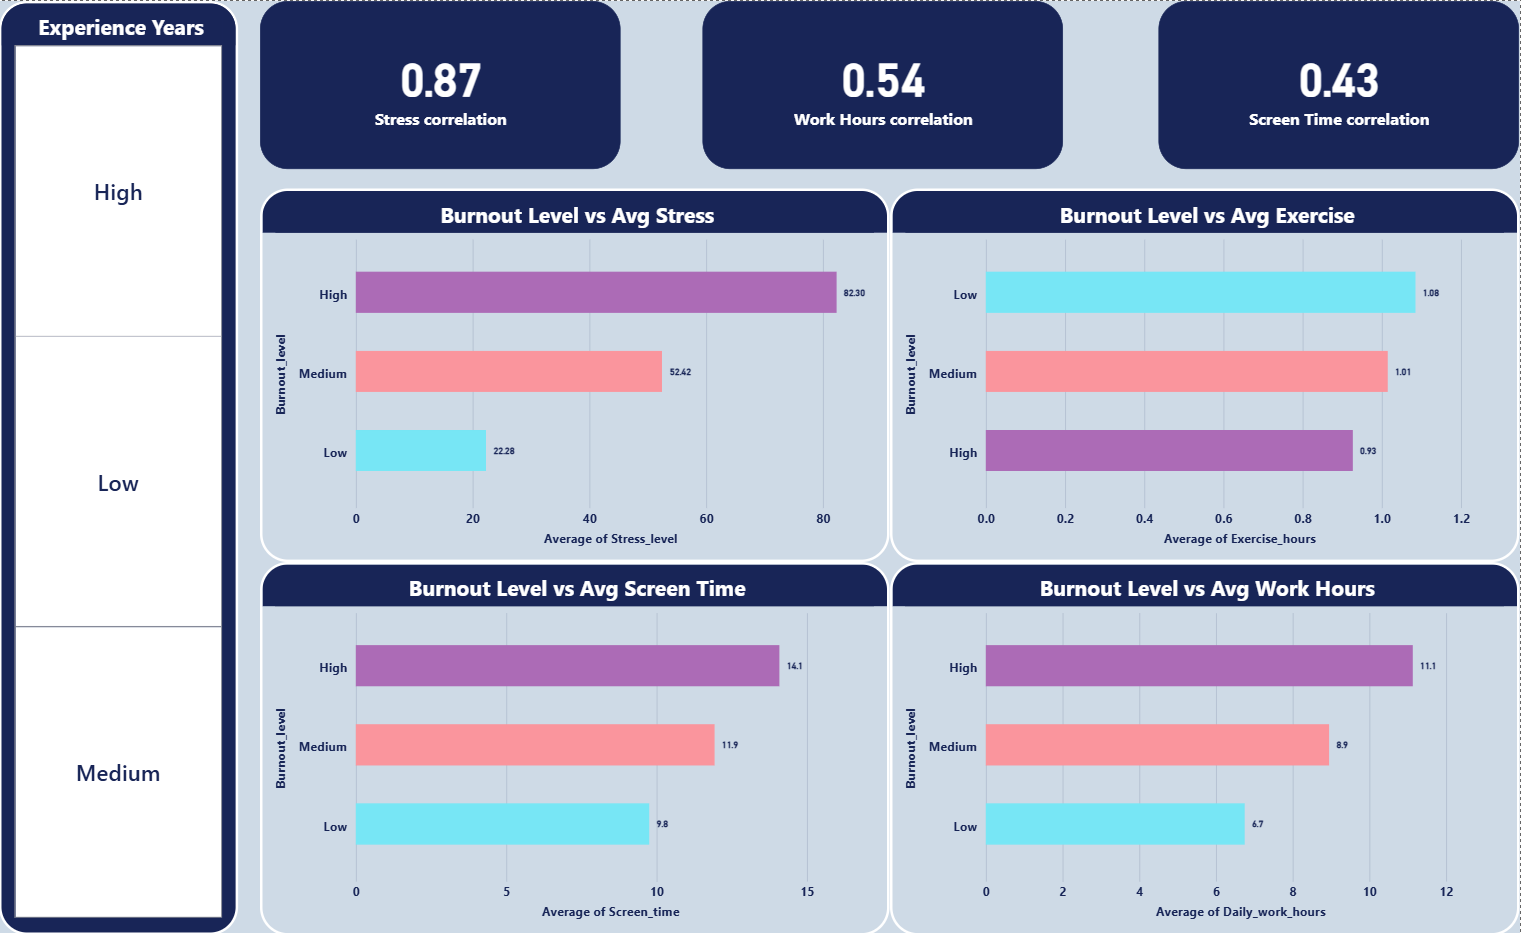

This screenshot's page, from the dashboard's own definition file:
{"tool":"powerbi","page":{"name":"Burnout Deep Dive","canvas":[1628,1000],"ordinal":4},"visuals":[{"type":"advancedSlicerVisual","title":"Experience Years","fields":{"Values":["Final.Burnout_level"]},"box":[0,0,256,1000],"z":0},{"type":"card","fields":{"Values":["Final.Stress correlation"]},"box":[280,0,386,180],"z":1000},{"type":"card","fields":{"Values":["Final.Work Hours correlation"]},"box":[754,0,386,180],"z":2000},{"type":"card","fields":{"Values":["Final.Screen Time correlation"]},"box":[1242,0,386,180],"z":3000},{"type":"clusteredBarChart","title":"Burnout Level vs Avg Stress","fields":{"Y":["Avg(Final.Stress_level)"],"Category":["Final.Burnout_level"]},"box":[280,200,674,400],"z":4000},{"type":"clusteredBarChart","title":"Burnout Level vs Avg Work Hours","fields":{"Y":["Avg(Final.Daily_work_hours)"],"Category":["Final.Burnout_level"]},"box":[954,600,674,400],"z":5000},{"type":"clusteredBarChart","title":"Burnout Level vs Avg Screen Time","fields":{"Y":["Avg(Final.Screen_time)"],"Category":["Final.Burnout_level"]},"box":[280,600,674,400],"z":6000},{"type":"clusteredBarChart","title":"Burnout Level vs Avg Exercise","fields":{"Y":["Avg(Final.Exercise_hours)"],"Category":["Final.Burnout_level"]},"box":[954,200,674,400],"z":7000}]}

Visuals, with their boxes in screenshot pixels (x1, y1, x2, y2), scaled from the page's 1628x1000 canvas onto the 1521x933 screenshot:
"Experience Years" advancedSlicerVisual: (0,0,239,932)
card - Final.Stress correlation: (262,0,622,168)
card - Final.Work Hours correlation: (704,0,1065,168)
card - Final.Screen Time correlation: (1160,0,1520,168)
"Burnout Level vs Avg Stress" clusteredBarChart: (262,187,891,560)
"Burnout Level vs Avg Work Hours" clusteredBarChart: (891,560,1520,932)
"Burnout Level vs Avg Screen Time" clusteredBarChart: (262,560,891,932)
"Burnout Level vs Avg Exercise" clusteredBarChart: (891,187,1520,560)
